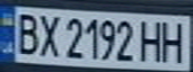1: (81, 15, 100, 60)
2: (60, 13, 84, 60), (115, 17, 139, 62)
9: (97, 16, 118, 61)
B: (9, 9, 42, 56)
H: (157, 17, 190, 63), (136, 17, 166, 63)
X: (36, 10, 63, 57)
